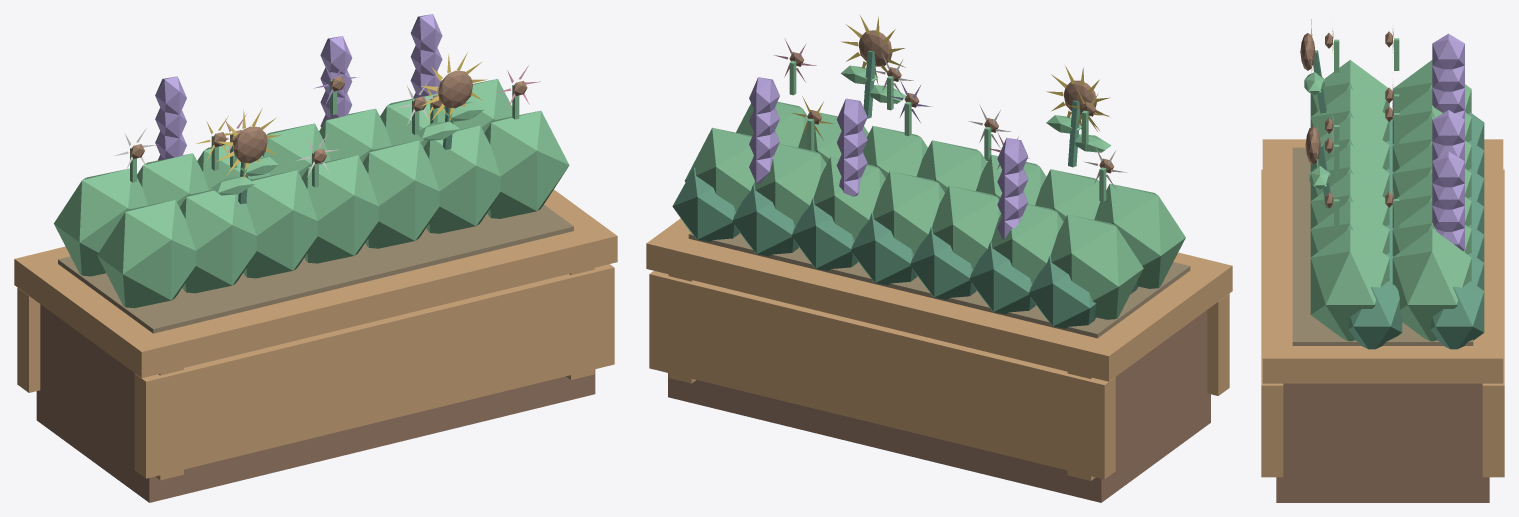
The model's file is planter-flowers.glb.
3 views of the same model, side by side, from view 1: azimuth 30°, elevation 25°; view 2: azimuth 150°, elevation 25°; view 3: azimuth 270°, elevation 25° (orthographic). The views are drawn at different scales.
Visible parts, largest first — view 1: planter_flowers_wood, planter_flowers_leaf_mid, planter_flowers_wood_dark, planter_flowers_soil, planter_flowers_purple, planter_flowers_yellow; view 2: planter_flowers_wood, planter_flowers_leaf_mid, planter_flowers_wood_dark, planter_flowers_leaf_dark, planter_flowers_purple, planter_flowers_soil, planter_flowers_yellow; view 3: planter_flowers_leaf_mid, planter_flowers_wood_dark, planter_flowers_wood, planter_flowers_leaf_dark, planter_flowers_purple, planter_flowers_soil.
Boxes of the visible parts, x1,y1,x2,y2 form: planter_flowers_wood: [14, 189, 617, 480]; planter_flowers_leaf_mid: [54, 79, 569, 308]; planter_flowers_wood_dark: [36, 70, 595, 502]; planter_flowers_soil: [58, 205, 573, 333]; planter_flowers_purple: [155, 14, 442, 160]; planter_flowers_yellow: [196, 52, 487, 178]; planter_flowers_wood: [646, 218, 1232, 480]; planter_flowers_leaf_mid: [684, 60, 1185, 319]; planter_flowers_wood_dark: [668, 30, 1210, 502]; planter_flowers_leaf_dark: [672, 50, 1137, 328]; planter_flowers_purple: [749, 77, 1028, 239]; planter_flowers_soil: [688, 232, 1190, 338]; planter_flowers_yellow: [792, 15, 1109, 140]; planter_flowers_leaf_mid: [1304, 38, 1471, 341]; planter_flowers_wood_dark: [1276, 31, 1489, 502]; planter_flowers_wood: [1261, 139, 1504, 477]; planter_flowers_leaf_dark: [1313, 50, 1484, 349]; planter_flowers_purple: [1392, 33, 1464, 251]; planter_flowers_soil: [1292, 147, 1473, 345].
Size of the model in its own units: 1.9 by 1.36 by 0.89.
